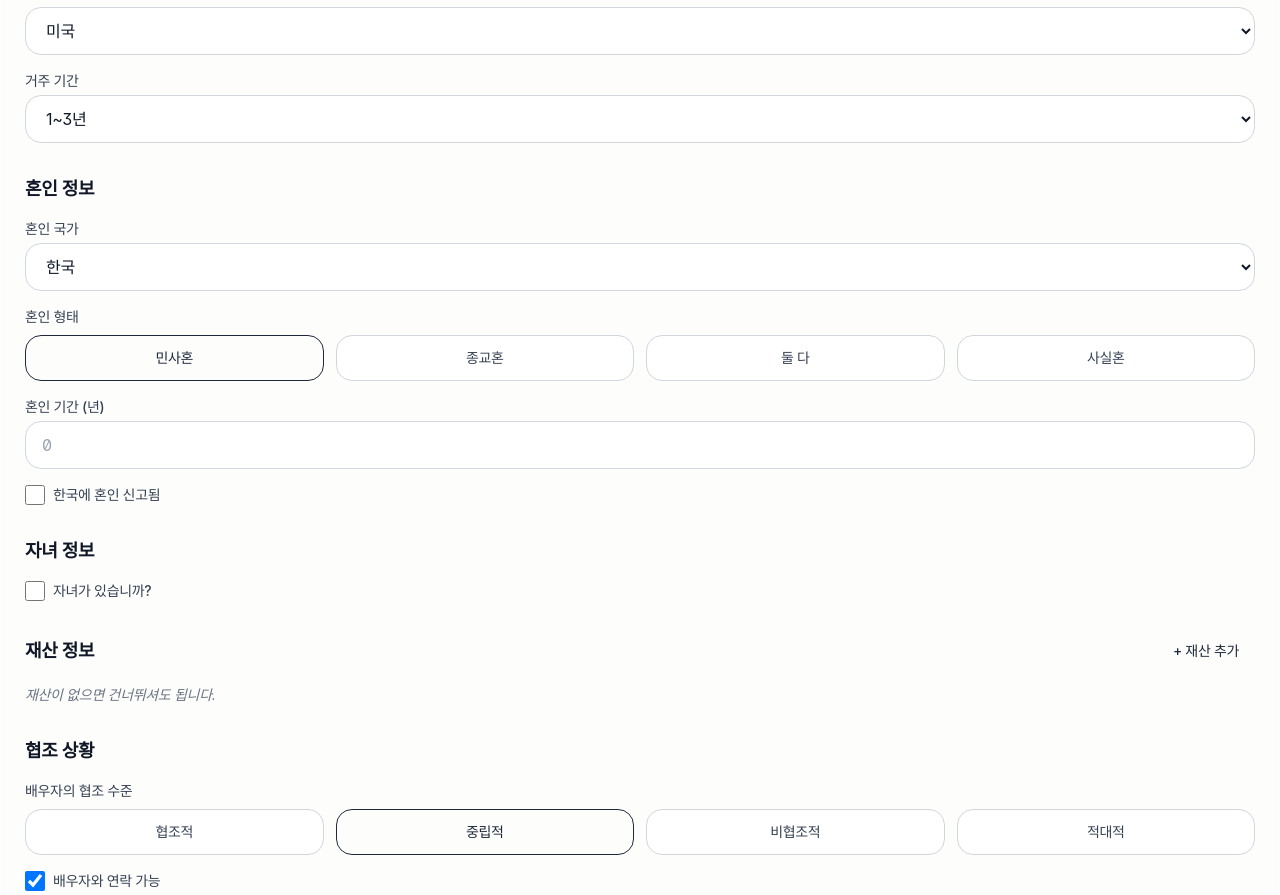
InternationalDivorceForm › resets form when reset button is clicked
(page scrolled)
Note: Change marriage duration
Type "5" into the number field labelled "혼인 기간 (년)".
click(640, 445); type("5")  # box left=25, top=421, right=1255, bottom=469
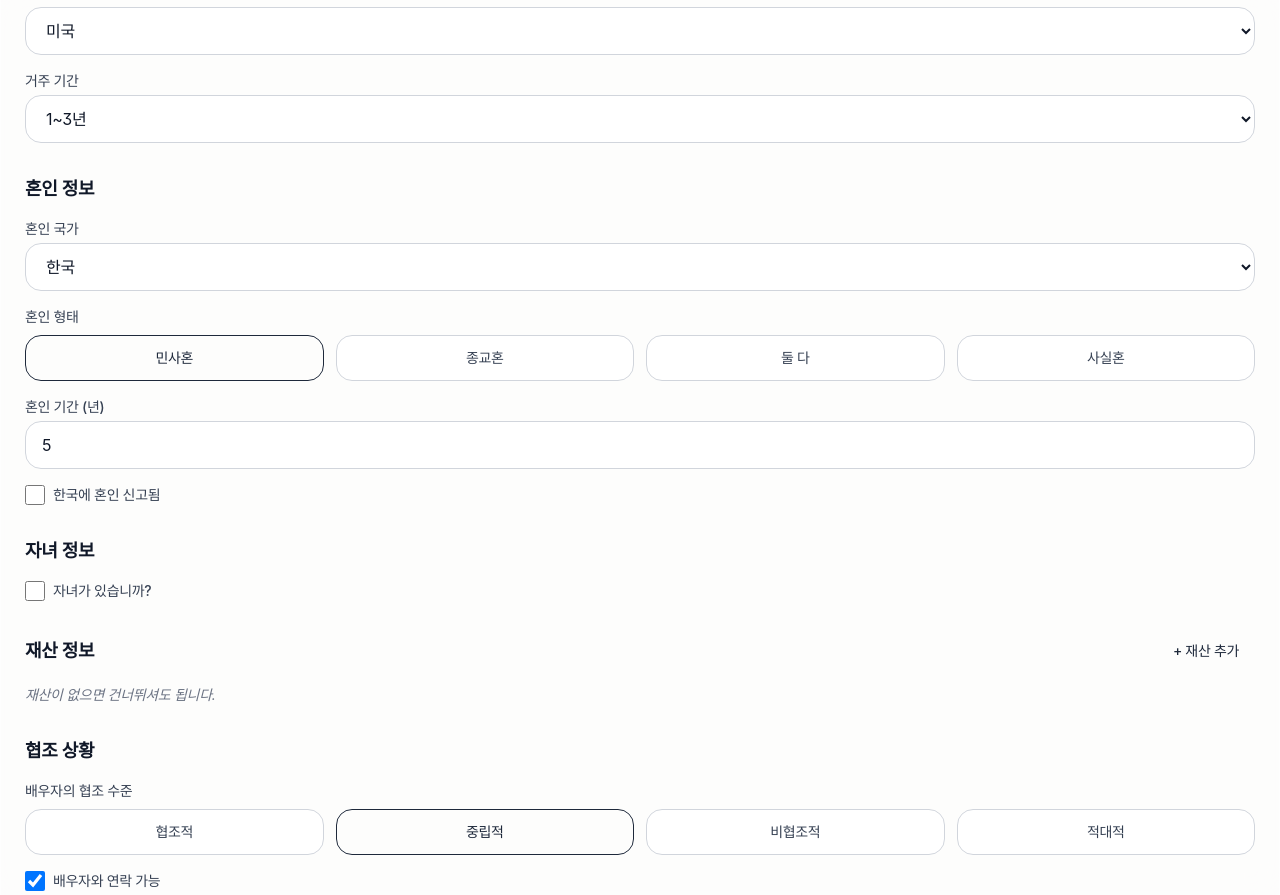
Note: Enable children
Click the checkbox labelled "자녀가 있습니까?".
click(35, 591)  # box left=25, top=581, right=45, bottom=601
(page scrolled)
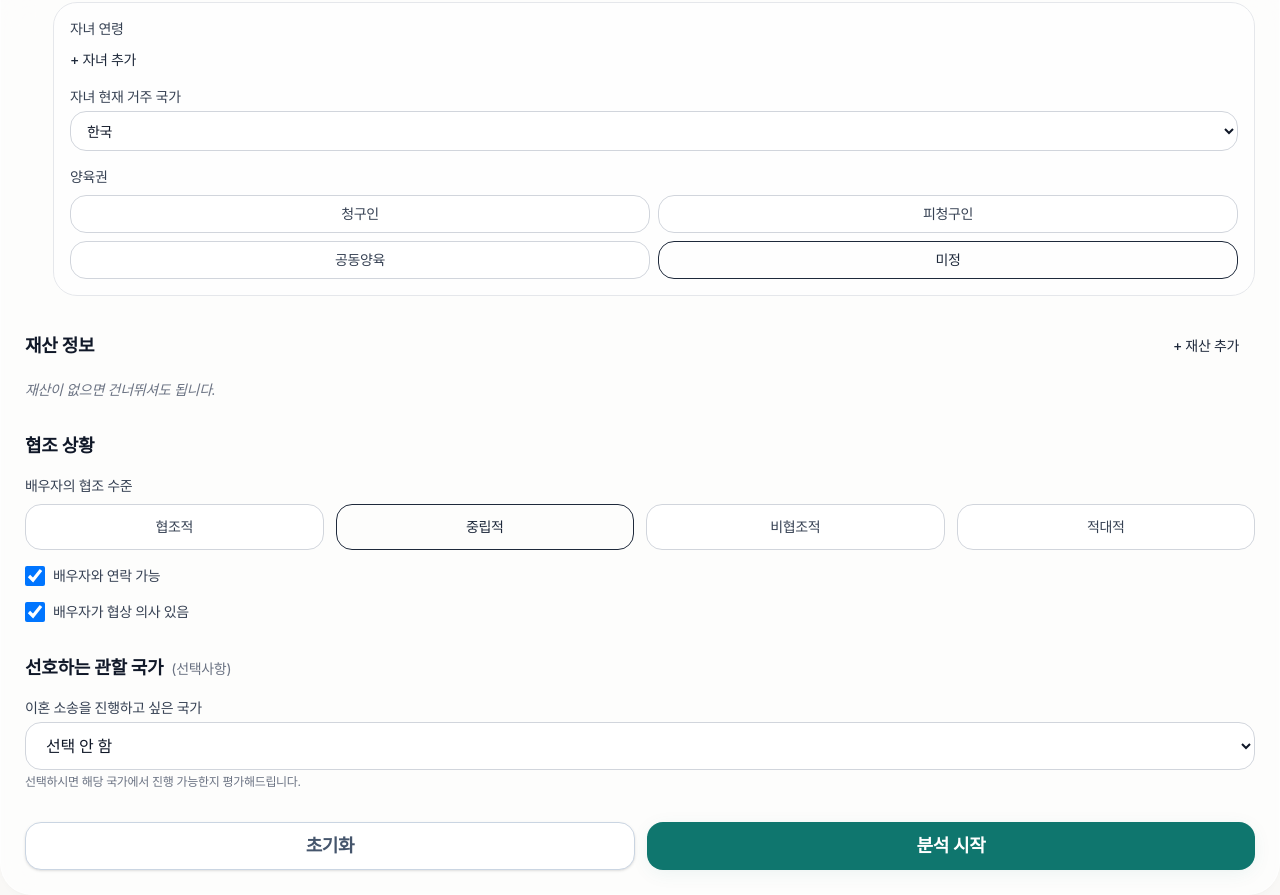
Note: Click reset
Click the button "초기화".
click(330, 846)  # box left=25, top=822, right=635, bottom=870
(page scrolled)
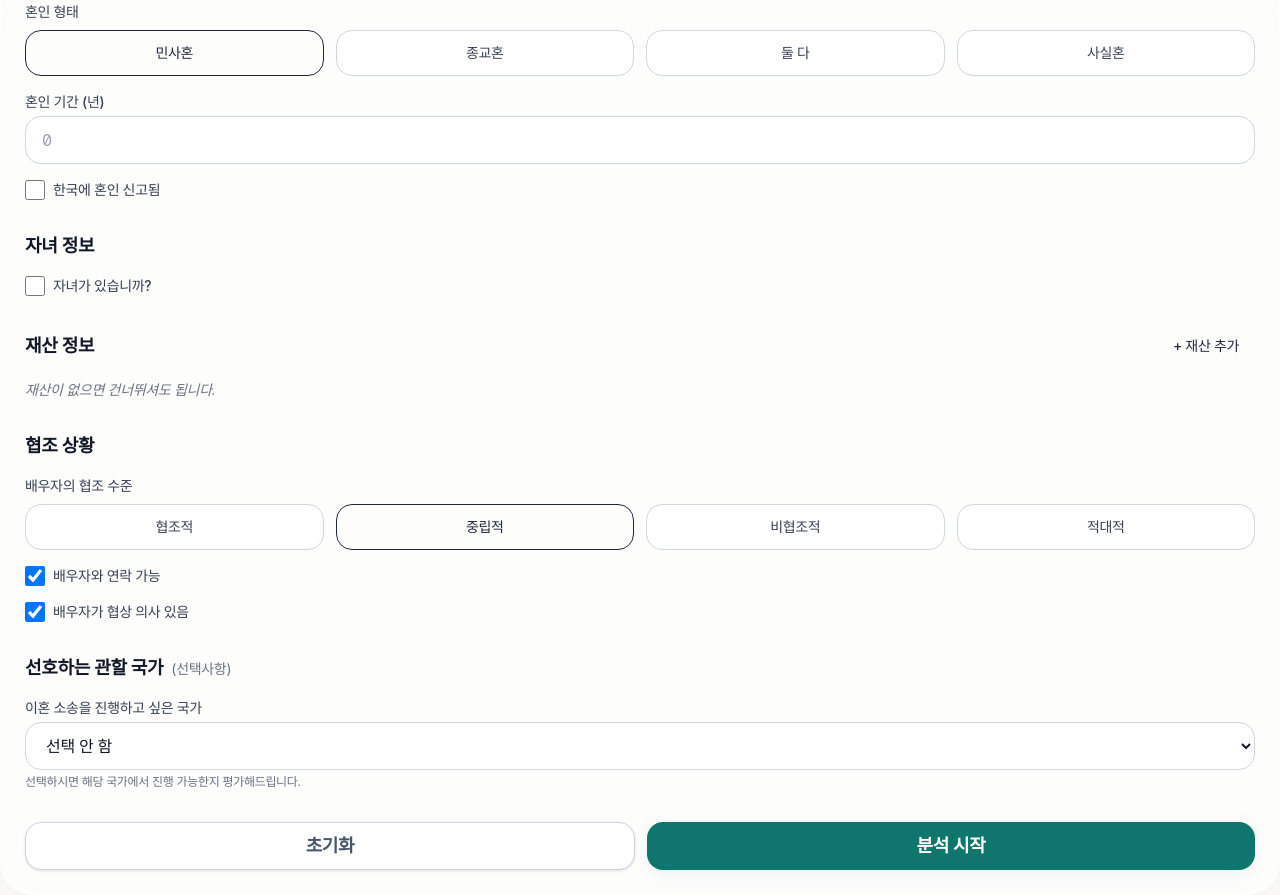
Check: the checkbox labelled "자녀가 있습니까?" is not checked, box left=25, top=276, right=45, bottom=296
Check: the number field labelled "혼인 기간 (년)" is not empty, box left=25, top=116, right=1255, bottom=164
